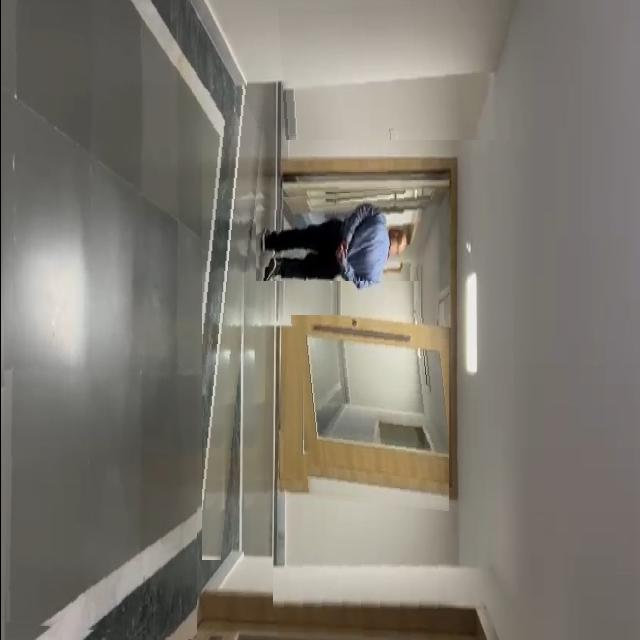door: (288, 316, 448, 514)
floor: (0, 0, 196, 640), (200, 89, 264, 560)
moving_object: (255, 187, 424, 281)
wall: (277, 0, 508, 140), (272, 507, 448, 618)
